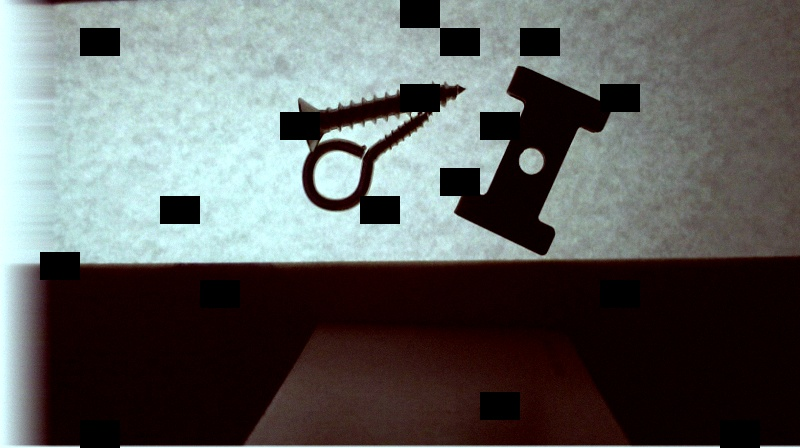O001: (301, 108, 434, 211)
O002: (453, 64, 613, 256)
S001: (297, 81, 467, 150)
